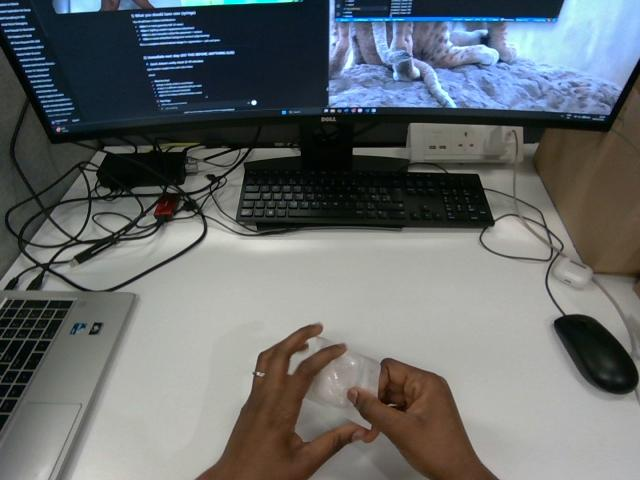gauze: (305, 350, 380, 423)
